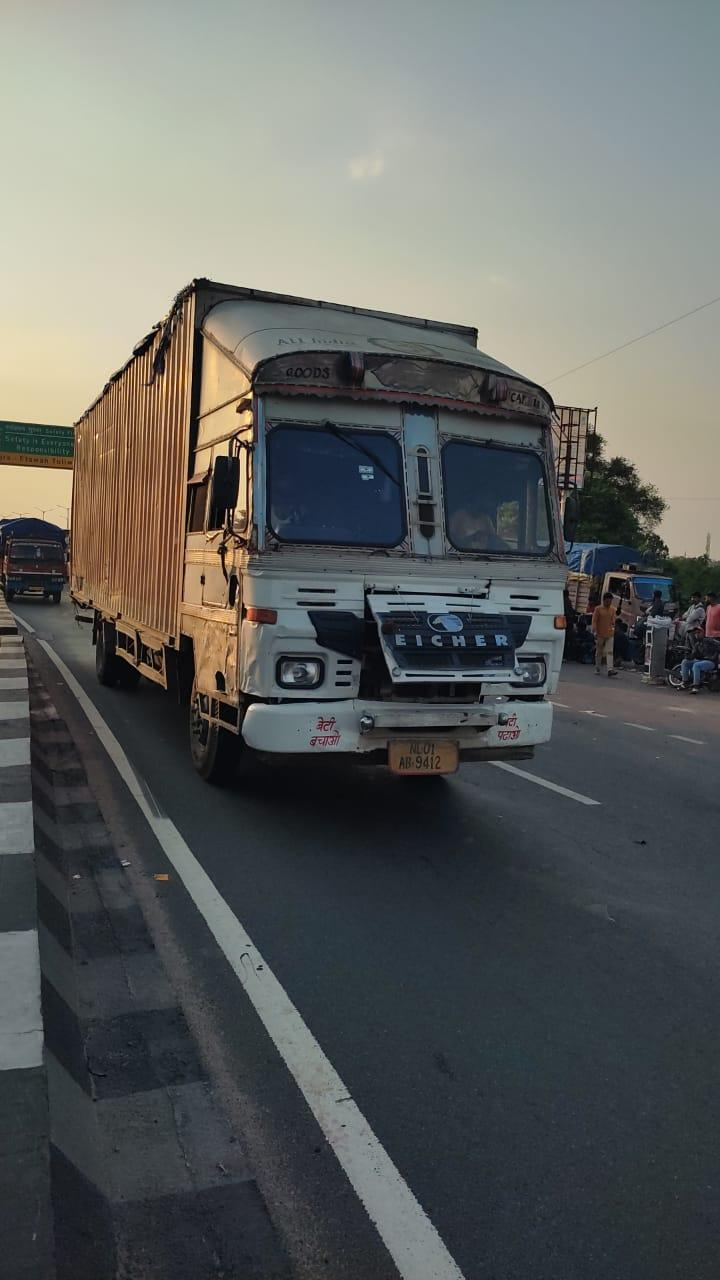truck: (66, 228, 565, 816)
